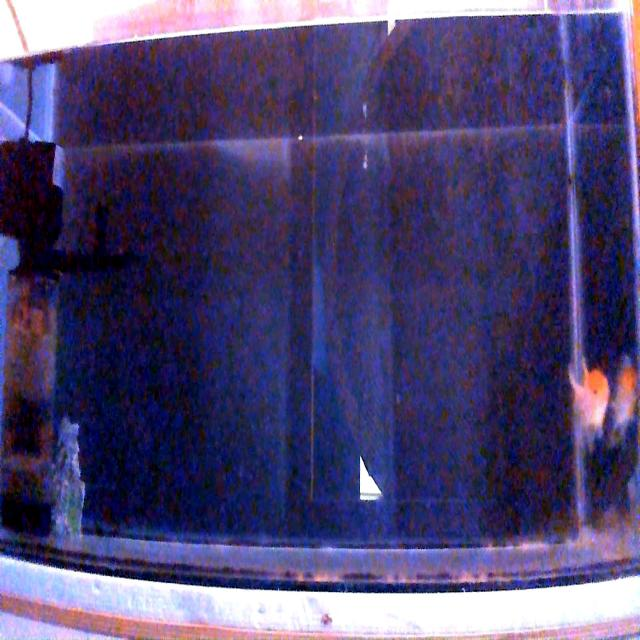fish: (570, 360, 610, 434), (610, 358, 638, 438)
